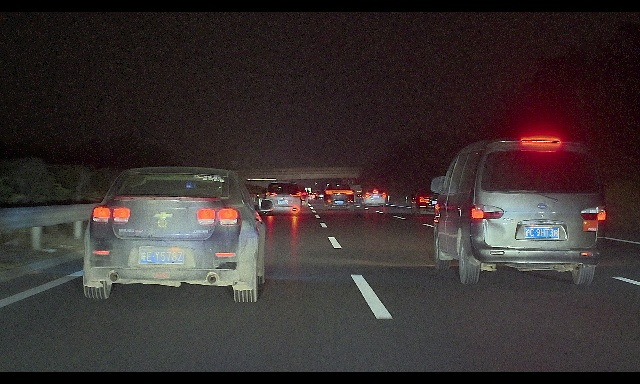car: (430, 135, 607, 286), (83, 166, 274, 303), (265, 180, 303, 214), (411, 187, 444, 218), (323, 183, 355, 210), (284, 185, 309, 208), (359, 187, 387, 207), (314, 190, 325, 200), (311, 191, 319, 199)
